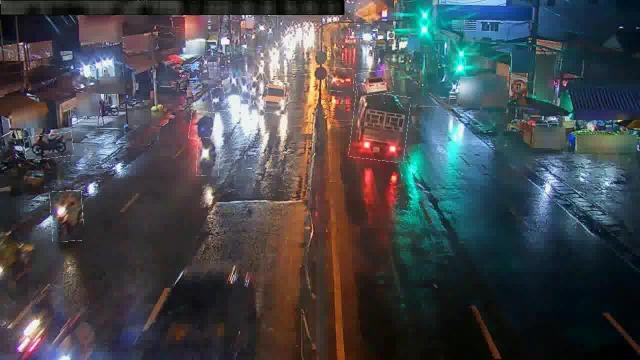Bike: (51, 190, 84, 241), (24, 133, 74, 159), (197, 138, 220, 176), (190, 110, 214, 140), (210, 88, 226, 112), (248, 80, 260, 104), (238, 76, 250, 100), (230, 71, 238, 93)
Car: (356, 71, 394, 96), (266, 82, 288, 114), (328, 68, 354, 92)
Truck: (350, 93, 410, 162)
